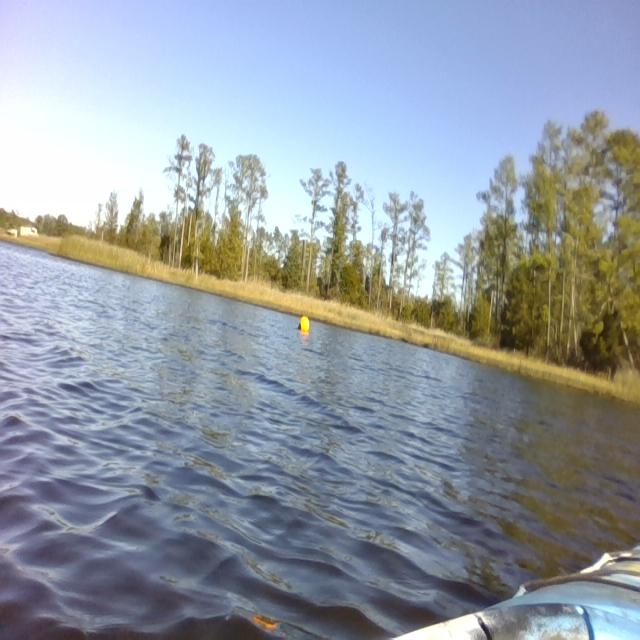Buoy: (297, 313, 311, 336)
